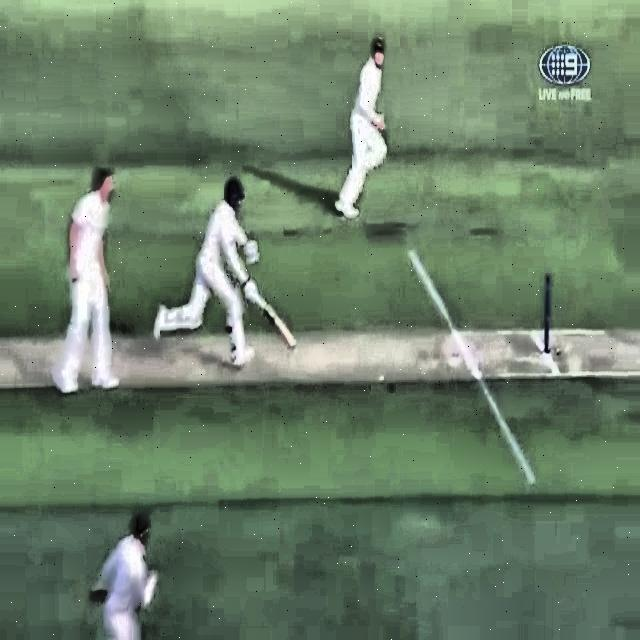Bat: (242, 283, 298, 351)
Pitch_Line: (406, 247, 538, 487)
Undis_Wicket: (535, 265, 558, 353)
